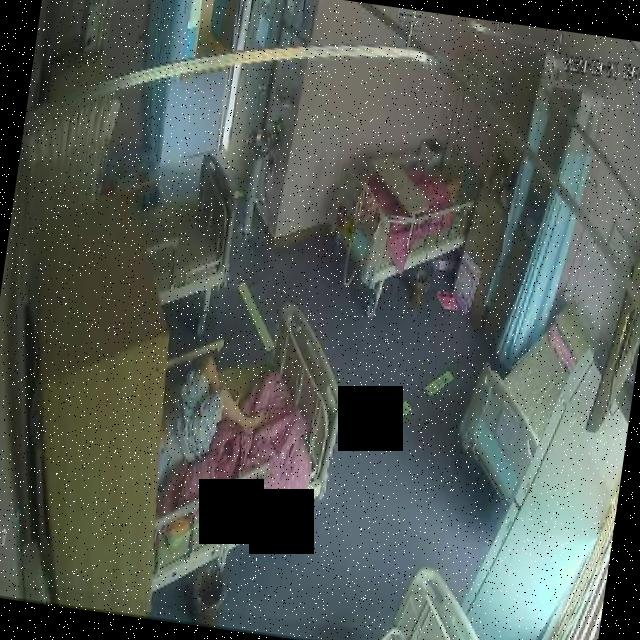bed: (140, 289, 357, 577), (306, 115, 484, 322), (448, 300, 594, 517), (126, 143, 246, 314)
lie: (155, 356, 275, 474)
patient: (154, 355, 271, 474)
